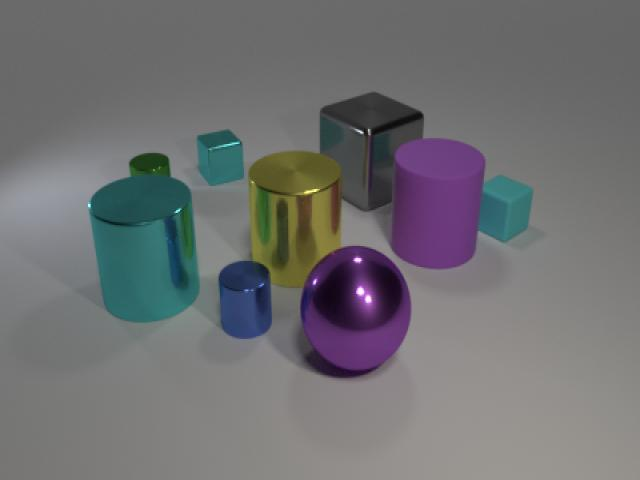cylinder: (83, 170, 203, 328), (387, 127, 488, 272), (248, 144, 346, 292), (215, 256, 274, 341), (128, 141, 173, 186)
round ball: (298, 238, 413, 380)
